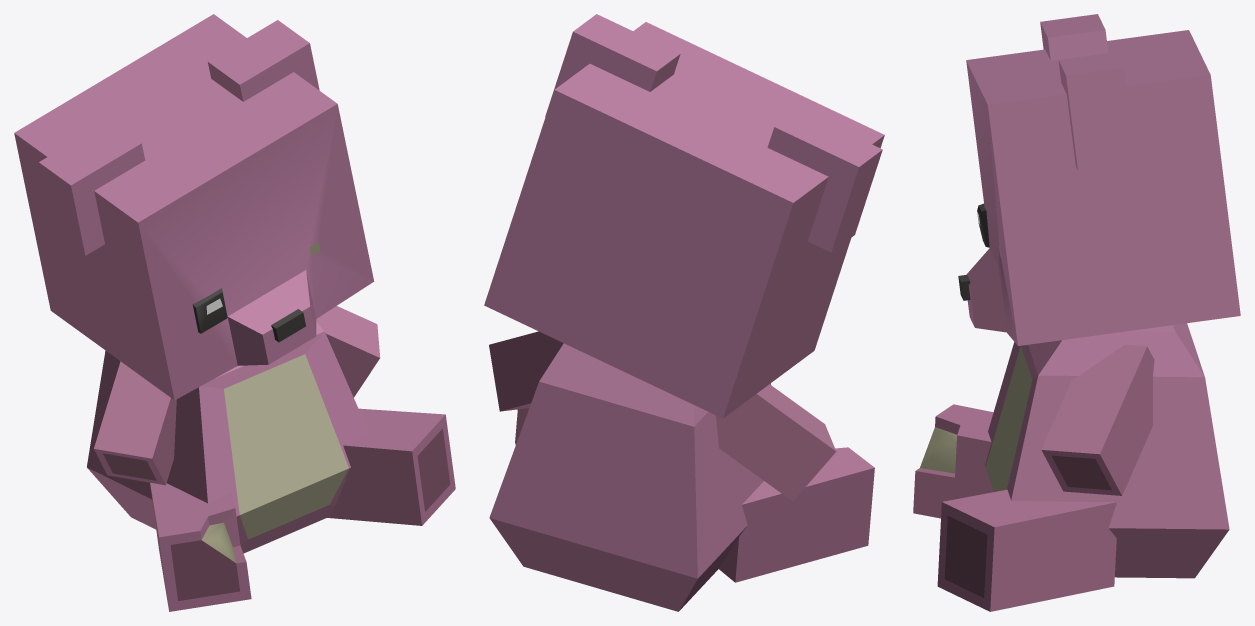
File: AI_Prop_TeddyBear.fbx
3 views of the same model, side by side, from view 1: azimuth 30°, elevation 25°; view 2: azimuth 150°, elevation 25°; view 3: azimuth 270°, elevation 25° (orthographic). The views are drawn at different scales.
Parts seen in each view (by area): view 1: AI_Prop_TeddyBear; view 2: AI_Prop_TeddyBear; view 3: AI_Prop_TeddyBear.
Boxes of the visible parts, x1,y1,x2,y2 form: AI_Prop_TeddyBear: [14, 14, 455, 611]; AI_Prop_TeddyBear: [484, 14, 884, 611]; AI_Prop_TeddyBear: [913, 14, 1240, 611].
Size of the model in its own units: 0.3487 by 0.4416 by 0.2519.
